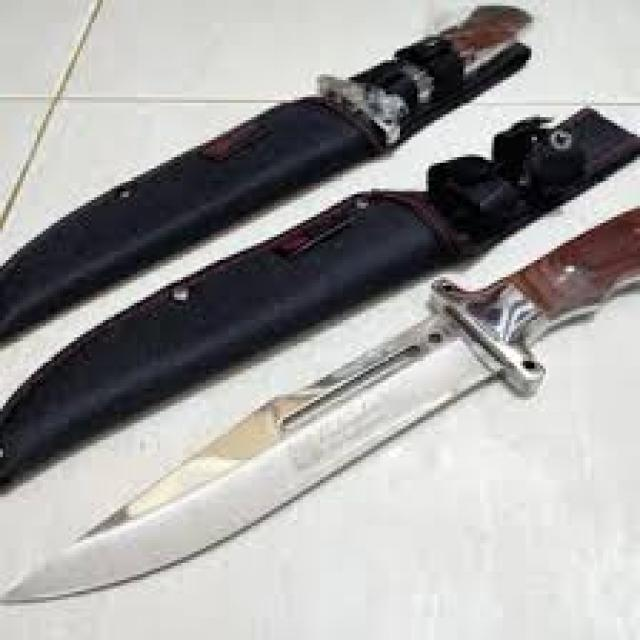weapon: (3, 154, 640, 602)
